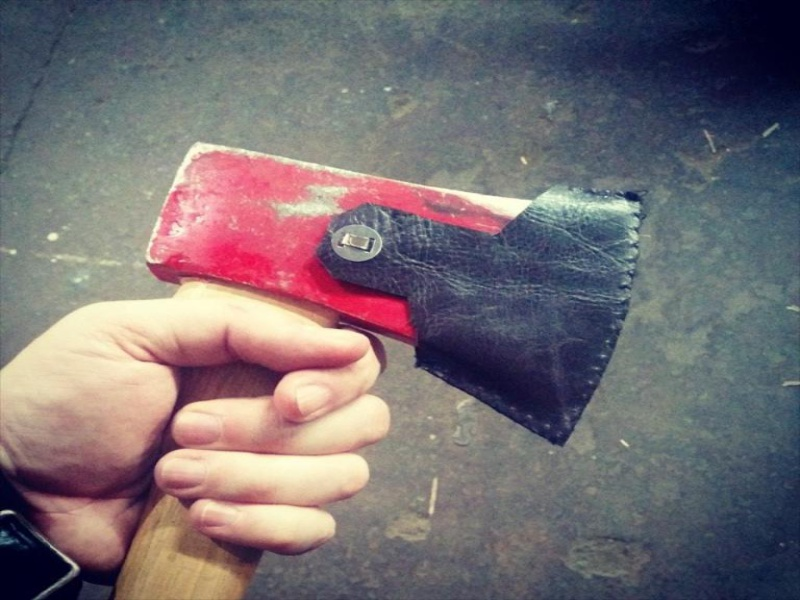axe: (107, 126, 651, 591)
